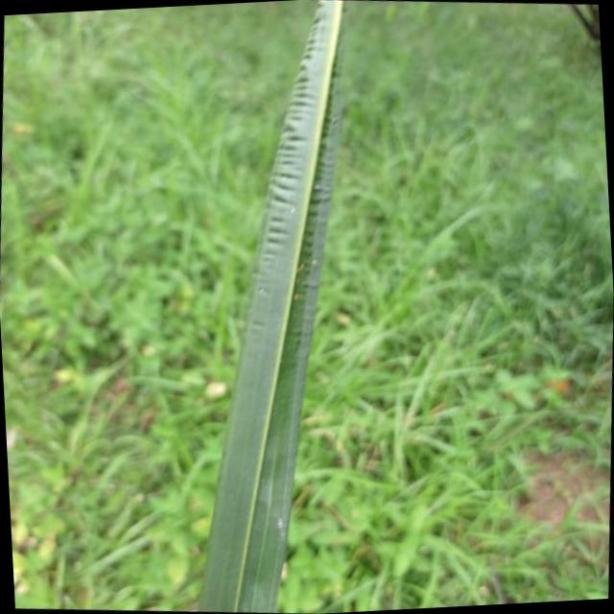Boron: (201, 0, 352, 614)
